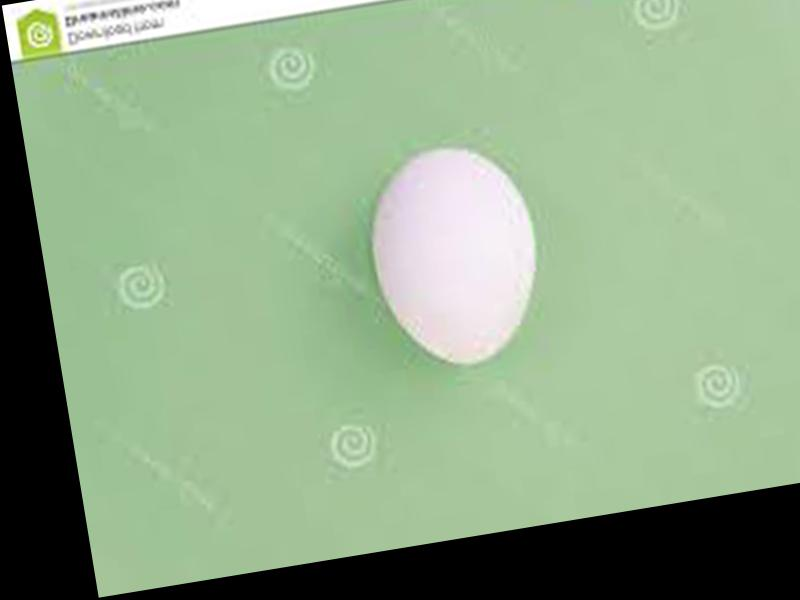Eggs: (356, 137, 549, 374)
